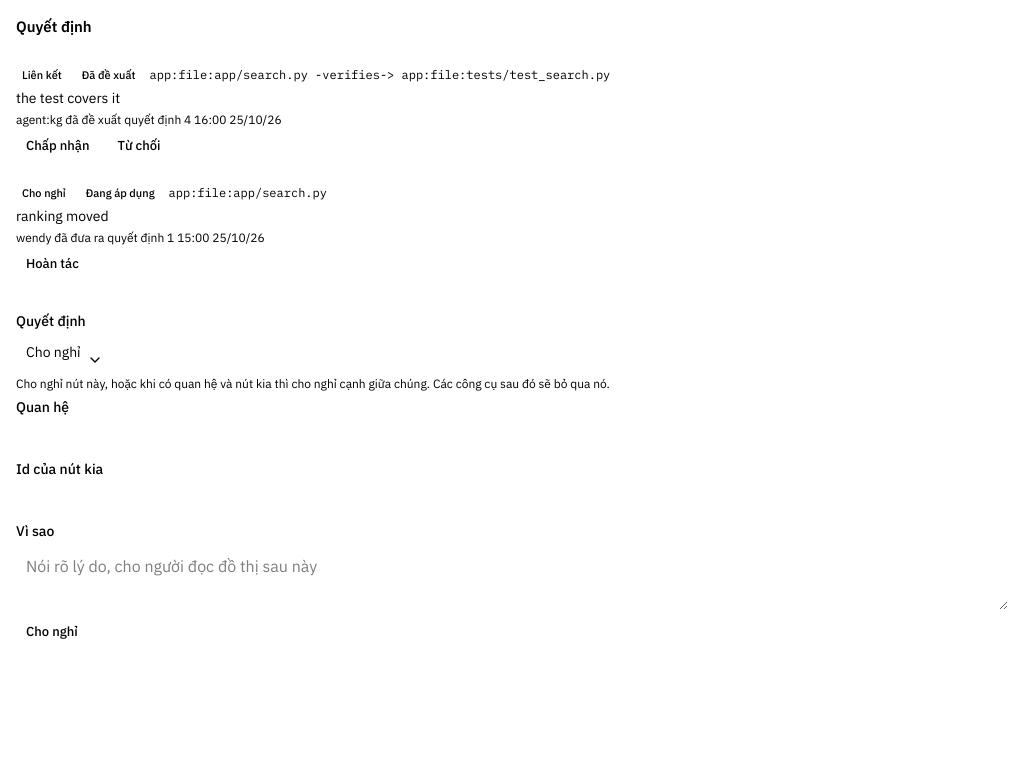
Test: kg decisions › says a stale decision revision in the form
In the text box with test id "kg-decision-reason": (512, 578) 16,546 -> 1008,610, type "why"
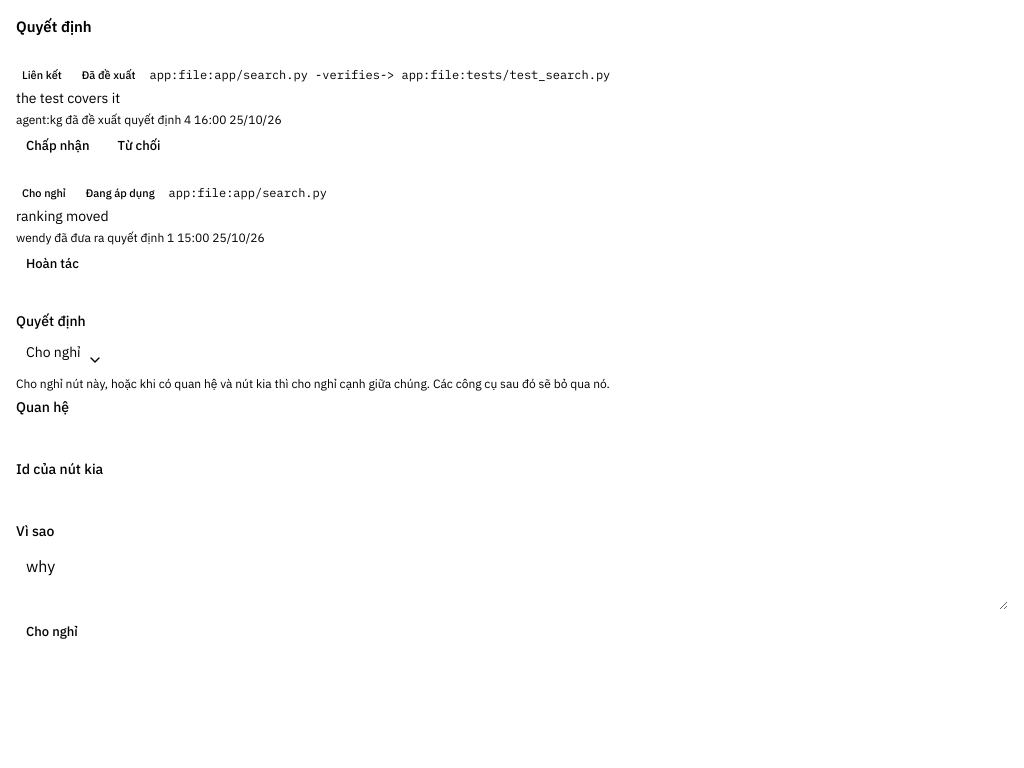
Click the button with test id "kg-decision-take": (52, 632) 16,618 -> 88,646
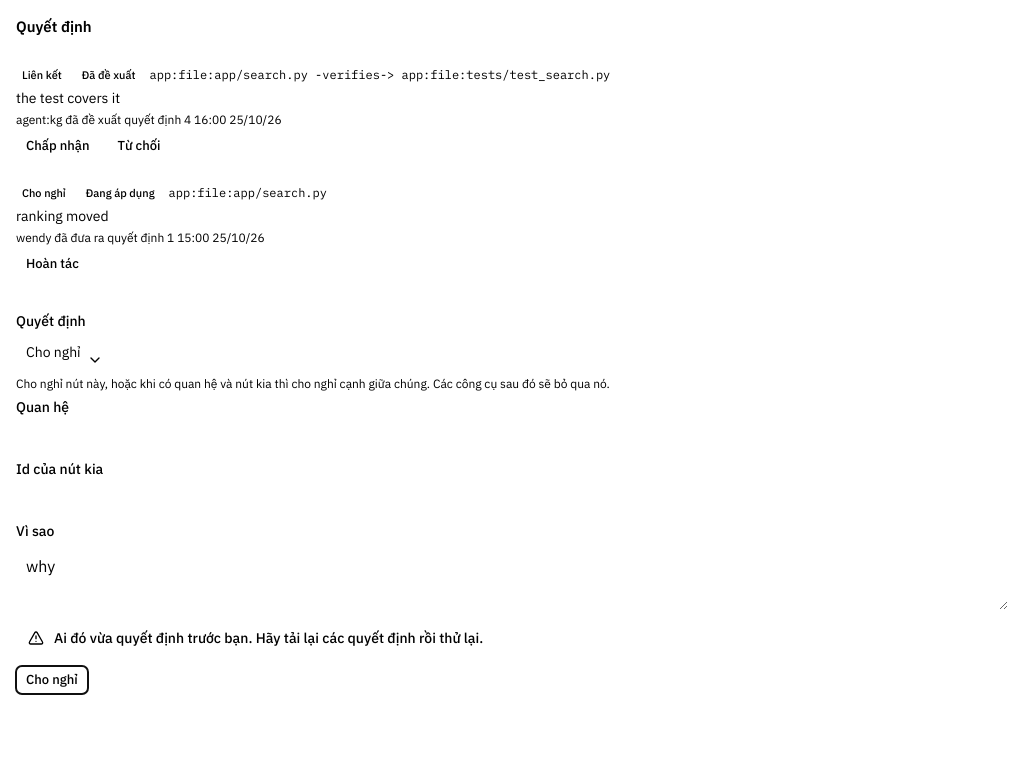
Now the text "Ai đó vừa quyết định trước bạn. Hãy tải lại các quyết định rồi thử lại." is shown, box 54,628 -> 483,648
